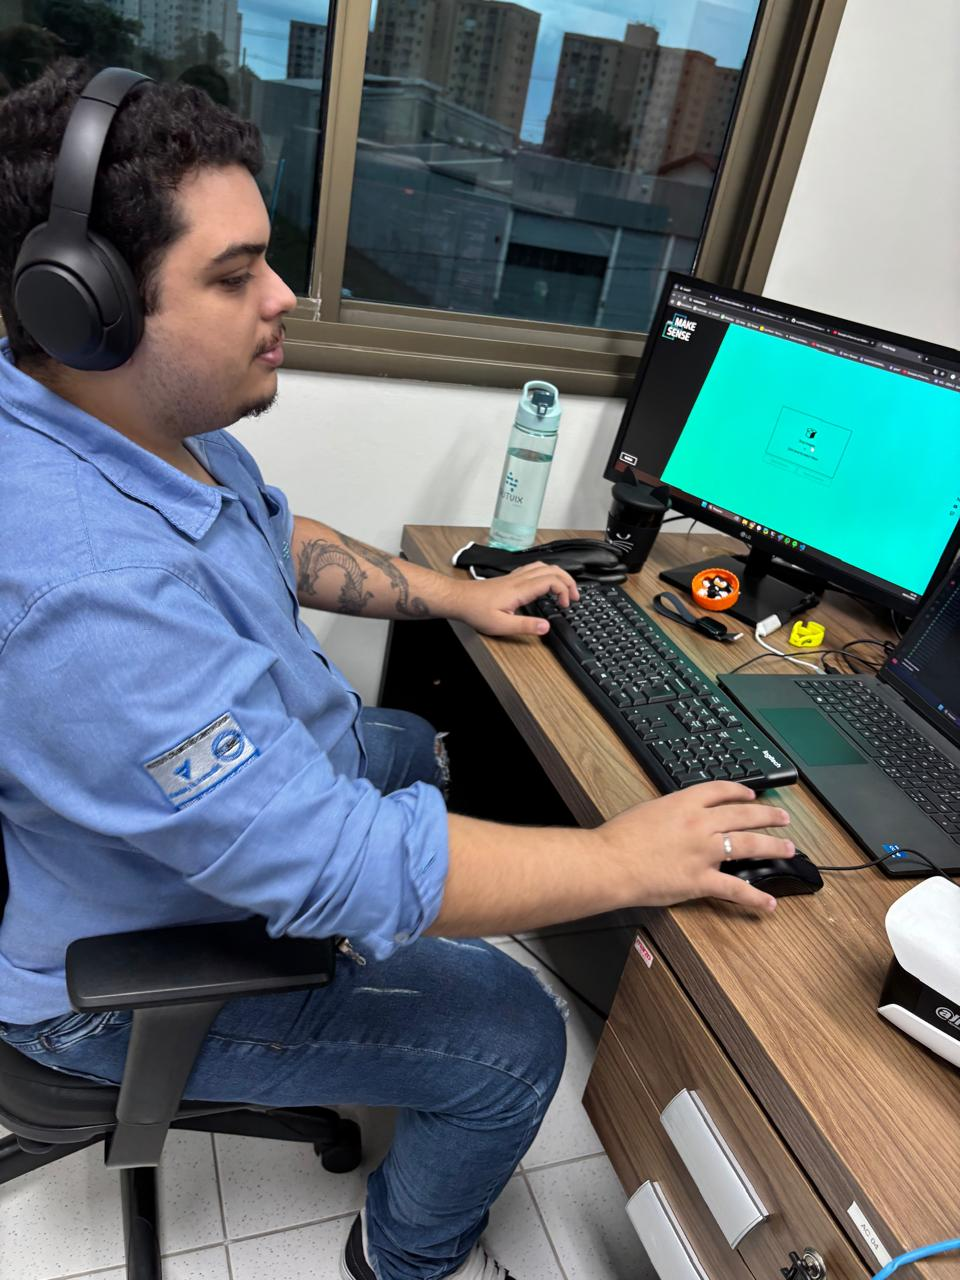no-gloves: (605, 773, 811, 916), (463, 559, 581, 638)
